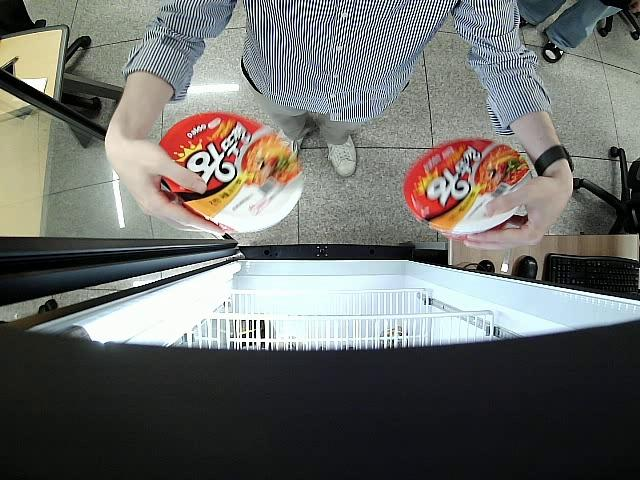00_hand: (103, 138, 226, 238), (465, 176, 562, 250)
10_wangTtukkeong: (160, 115, 305, 235), (405, 138, 530, 234)
